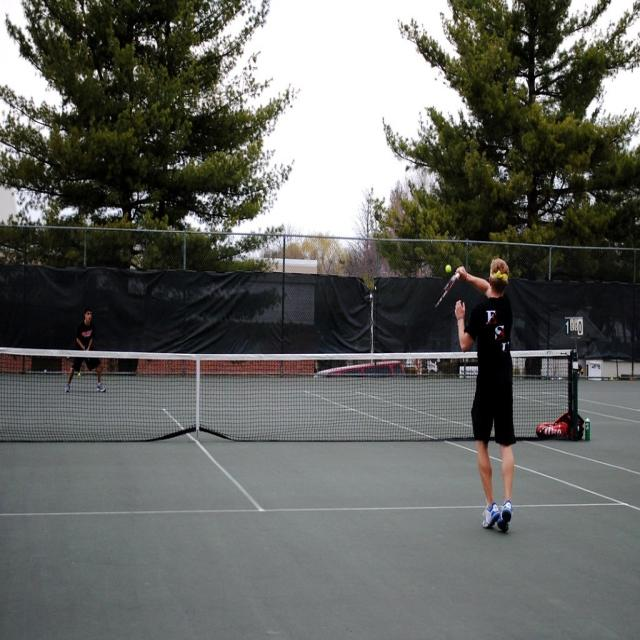ball: (444, 264, 452, 274), (77, 372, 81, 378)
